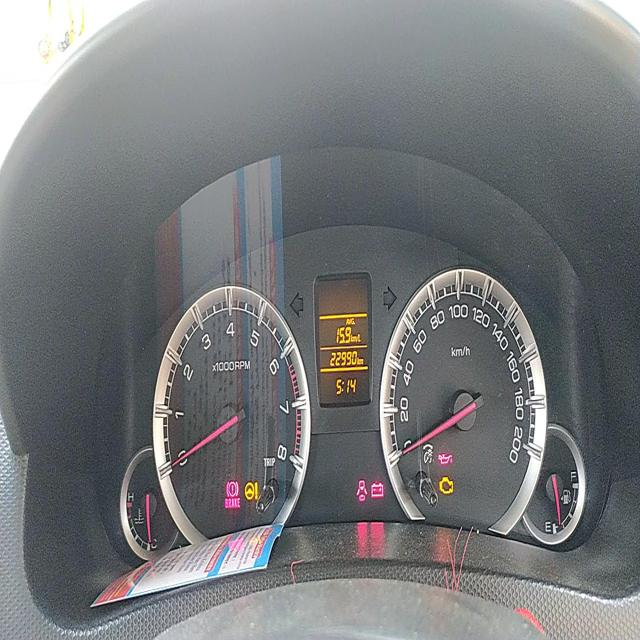odometer: (328, 348, 358, 368)
